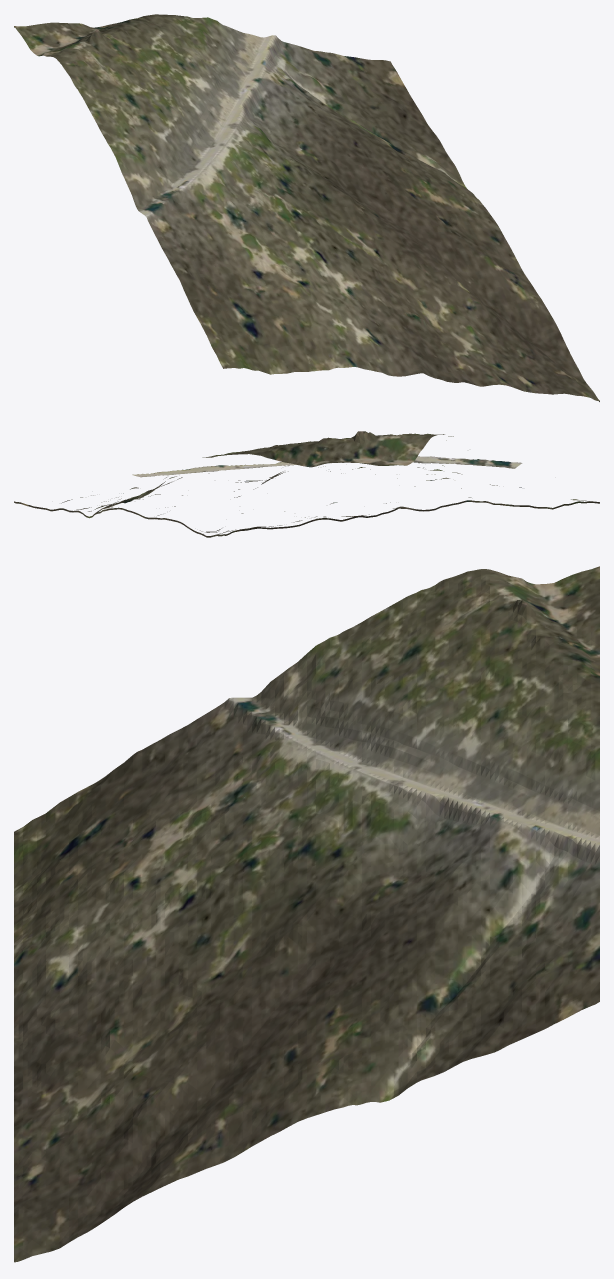
The picture shows the model from 3 angles, top to bottom: view 1: azimuth 30°, elevation 25°; view 2: azimuth 150°, elevation 25°; view 3: azimuth 270°, elevation 25°; orthographic projection. The views are drawn at different scales.
Bounding box in the file's own units: 250 × 201 × 241.
Materials: 1 (1 with a texture image).
